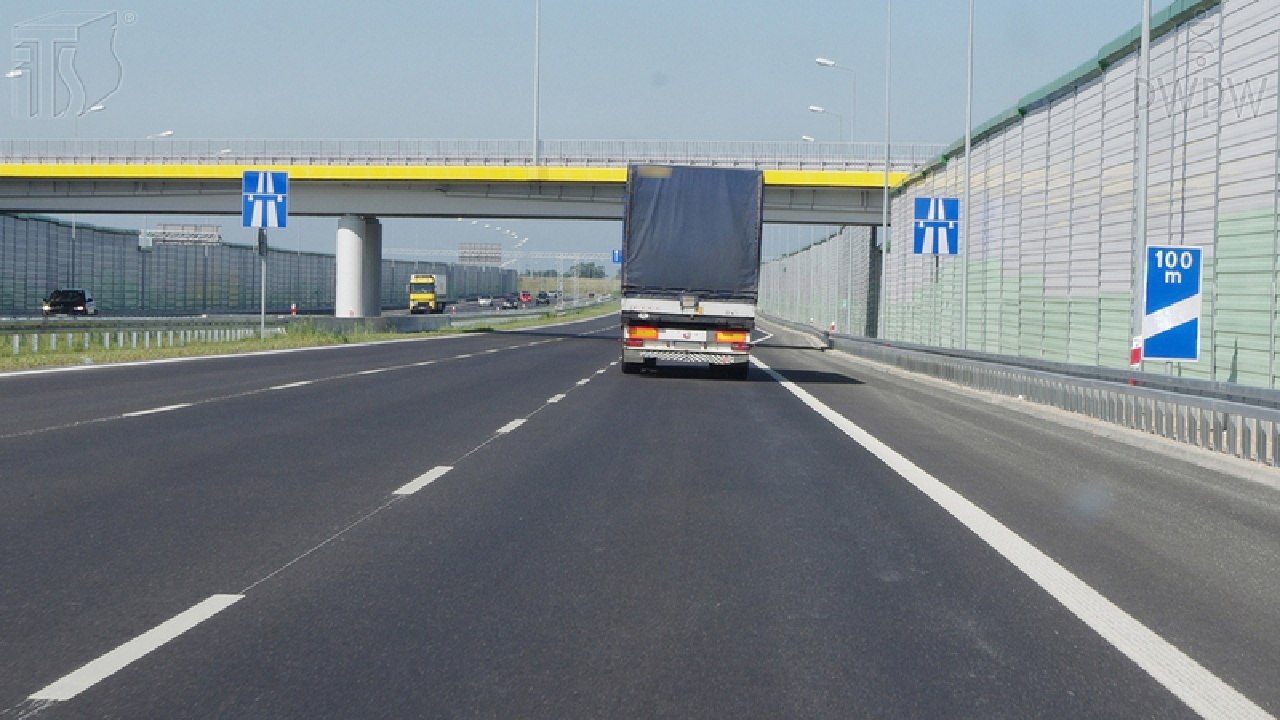D9: (242, 170, 286, 228), (914, 197, 958, 254)
